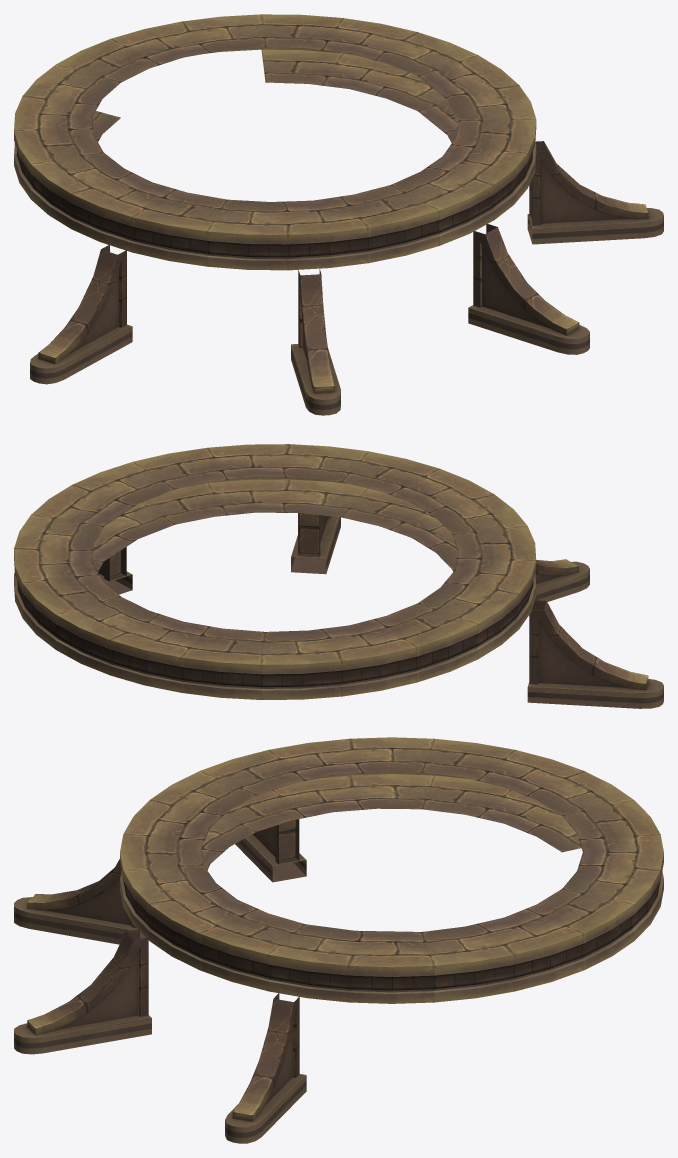
File: Altar02_Terrian_LV001.FBX
3 views of the same model, one above another, from view 1: azimuth 30°, elevation 25°; view 2: azimuth 150°, elevation 25°; view 3: azimuth 270°, elevation 25° (orthographic). The views are drawn at different scales.
Parts seen in each view (by area): view 1: Altar02_Terrian_LV001; view 2: Altar02_Terrian_LV001; view 3: Altar02_Terrian_LV001.
Boxes of the visible parts, <box> form: Altar02_Terrian_LV001: <box>14,14,663,415</box>; Altar02_Terrian_LV001: <box>14,444,663,708</box>; Altar02_Terrian_LV001: <box>14,737,663,1143</box>.
Bounding box in the file's own units: 1834 × 352 × 1577.
1 material, 1 textured.
